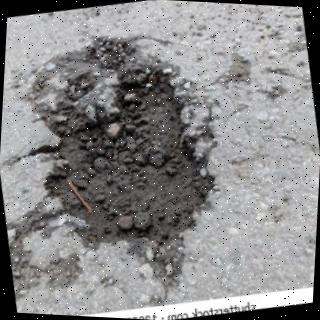pothole: (46, 71, 209, 279)
